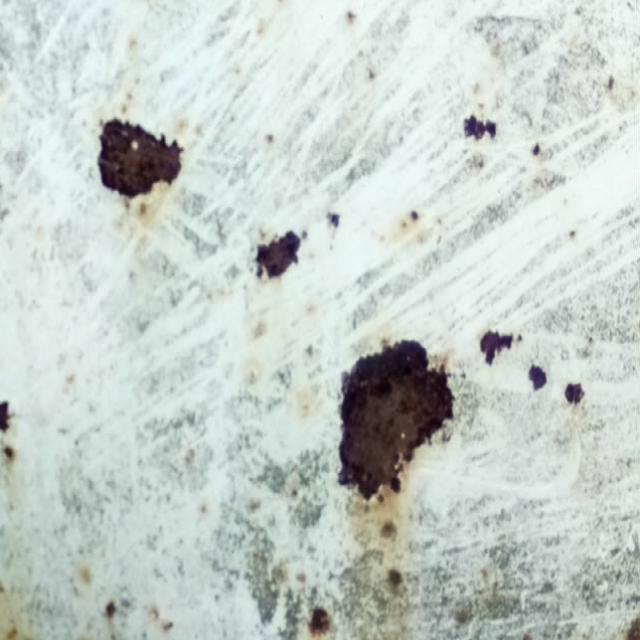Corrosion: (331, 339, 458, 501), (91, 115, 186, 199), (250, 230, 306, 279), (480, 330, 522, 363), (463, 114, 498, 140), (309, 606, 334, 640), (0, 400, 12, 460), (527, 365, 548, 392), (565, 381, 586, 407), (378, 522, 396, 540), (625, 619, 640, 640), (389, 565, 402, 584), (106, 601, 118, 617), (531, 141, 540, 158), (411, 208, 422, 221), (329, 213, 338, 226)
